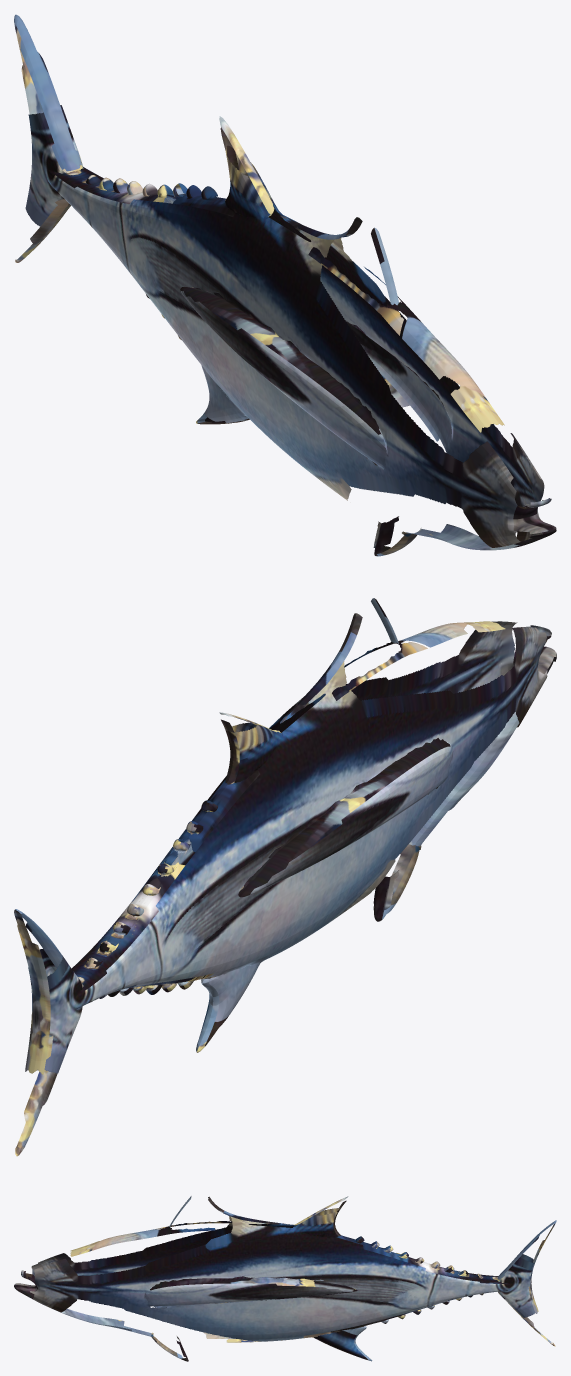
File: Tuna.obj
The picture shows the model from 3 angles, top to bottom: view 1: azimuth 30°, elevation 25°; view 2: azimuth 150°, elevation 25°; view 3: azimuth 270°, elevation 25°; orthographic projection. The views are drawn at different scales.
Parts seen in each view (by area): view 1: Cube.001; view 2: Cube.001; view 3: Cube.001.
Part boxes in pixels (x1,y1,x2,y2): Cube.001: (14,14,556,556); Cube.001: (14,598,556,1156); Cube.001: (14,1196,556,1361).
Bounding box in the file's own units: 0.7933 × 2.42 × 6.77.
Materials: 1 (1 with a texture image).
